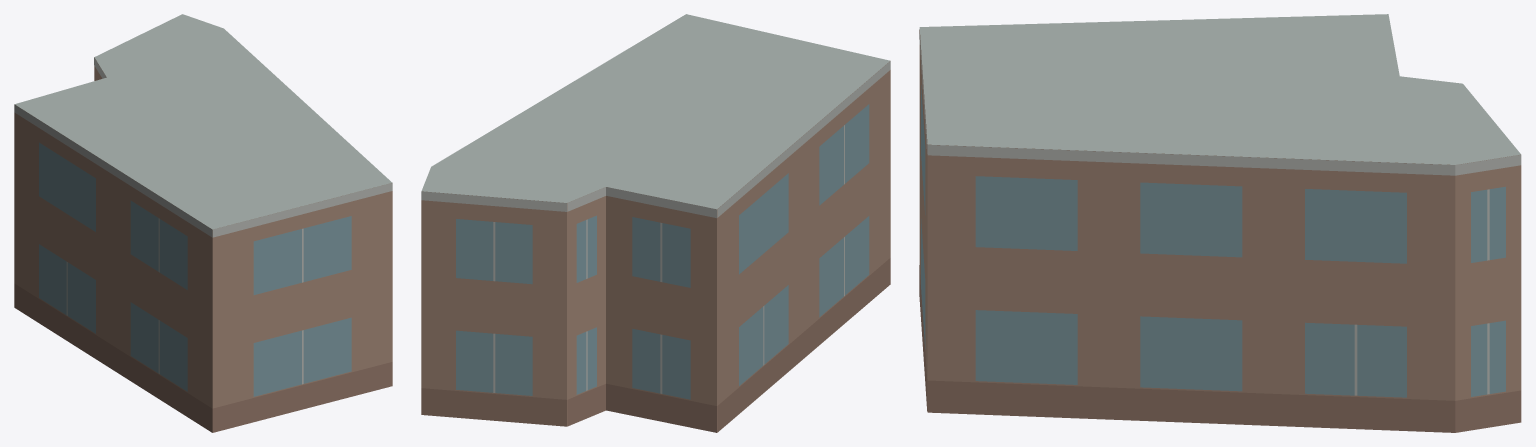
The model's file is survey-upis-32713460.glb.
3 views of the same model, side by side, from view 1: azimuth 30°, elevation 25°; view 2: azimuth 150°, elevation 25°; view 3: azimuth 270°, elevation 25° (orthographic). The views are drawn at different scales.
Parts seen in each view (by area): view 1: survey-upis-32713460.tmp; view 2: survey-upis-32713460.tmp; view 3: survey-upis-32713460.tmp.
Boxes of the visible parts, x1=… form: survey-upis-32713460.tmp: x1=14, y1=14, x2=392, y2=432; survey-upis-32713460.tmp: x1=421, y1=14, x2=890, y2=432; survey-upis-32713460.tmp: x1=919, y1=14, x2=1521, y2=432.
Bounding box in the file's own units: 7.38 × 6.1 × 12.43.
